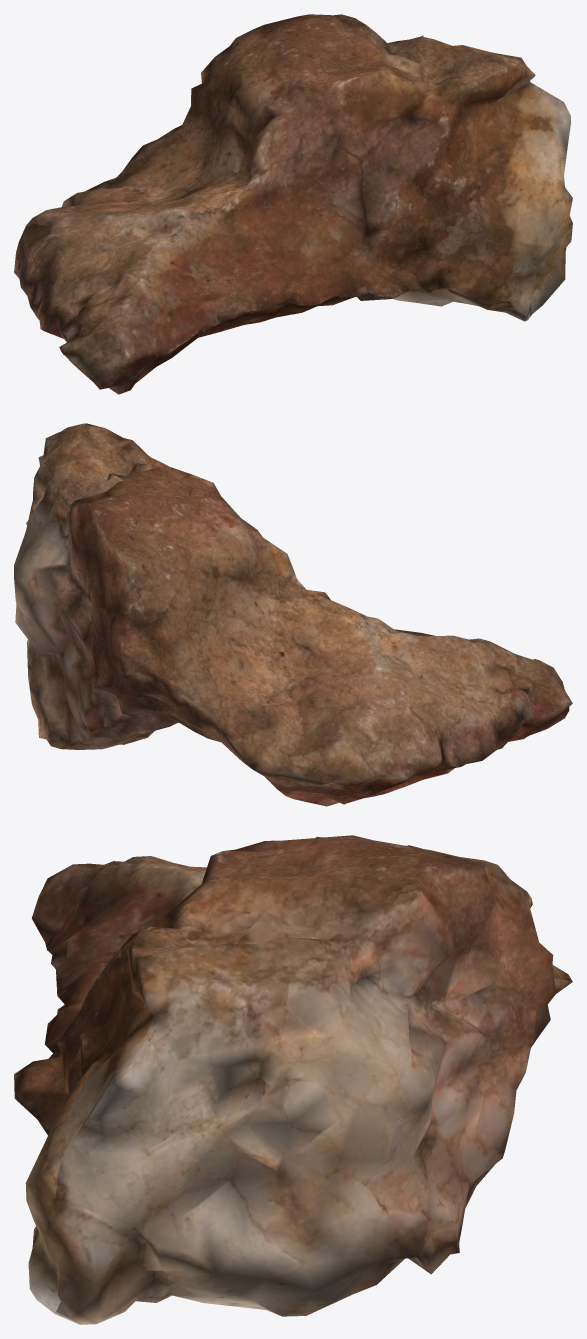
The picture shows the model from 3 angles, top to bottom: view 1: azimuth 30°, elevation 25°; view 2: azimuth 150°, elevation 25°; view 3: azimuth 270°, elevation 25°; orthographic projection. The views are drawn at different scales.
Parts seen in each view (by area): view 1: stone_01; view 2: stone_01; view 3: stone_01.
Part boxes in pixels (left/top/right/bottom): stone_01: left=14, top=14, right=572, bottom=394; stone_01: left=14, top=423, right=572, bottom=806; stone_01: left=14, top=835, right=572, bottom=1324.
Size of the model in its own units: 0.1464 by 0.0708 by 0.089.
Materials: 1 (1 with a texture image).
